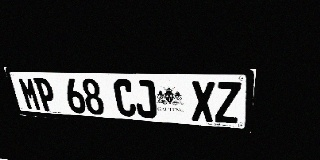6: (62, 78, 87, 114)
8: (80, 79, 105, 115)
C: (112, 79, 137, 117)
J: (133, 80, 157, 118)
M: (17, 77, 42, 111)
P: (33, 78, 58, 112)
X: (191, 81, 215, 122)
Z: (215, 81, 241, 124)
